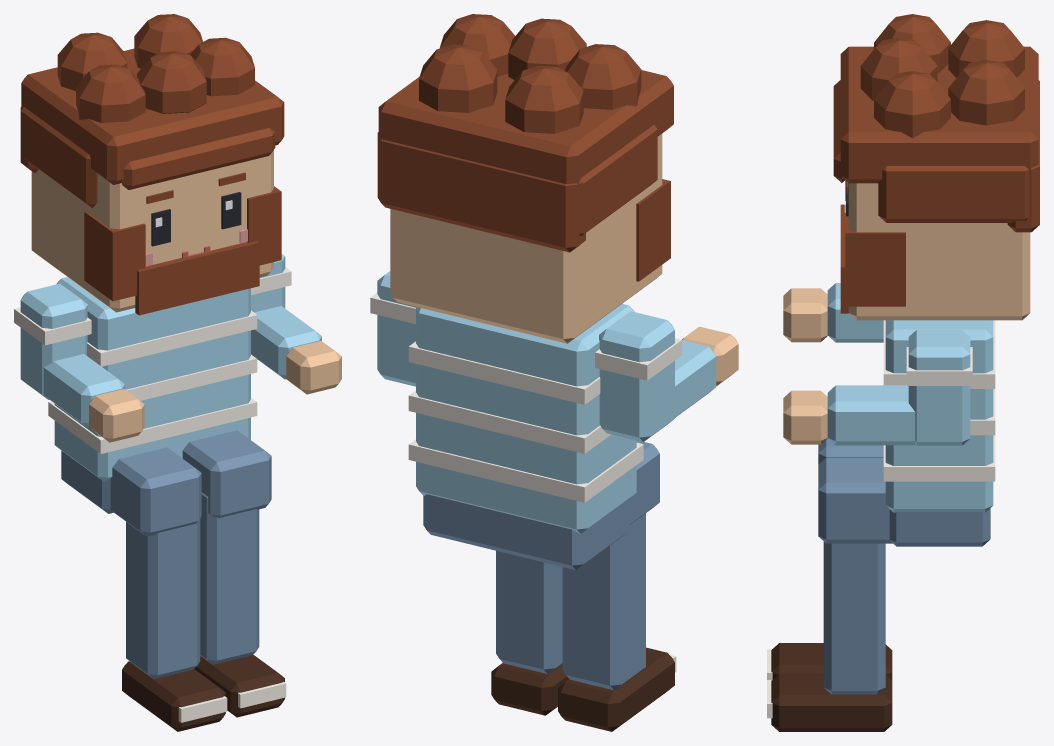
File: CatCafe_NPC_Customer_D_Sit.glb
3 views of the same model, side by side, from view 1: azimuth 30°, elevation 25°; view 2: azimuth 150°, elevation 25°; view 3: azimuth 270°, elevation 25° (orthographic). The views are drawn at different scales.
Parts seen in each view (by area): view 1: CatCafe_NPC_Customer_D_Sit; view 2: CatCafe_NPC_Customer_D_Sit; view 3: CatCafe_NPC_Customer_D_Sit.
Part boxes in pixels (box(x1,y1,x2,y2)): CatCafe_NPC_Customer_D_Sit: box(14, 14, 341, 731); CatCafe_NPC_Customer_D_Sit: box(370, 14, 738, 731); CatCafe_NPC_Customer_D_Sit: box(767, 14, 1039, 731).
Size of the model in its own units: 2.25 by 5.45 by 2.02.
1 material, 1 textured.
